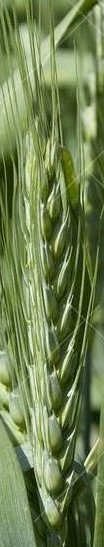Healthy Wheat: (15, 122, 93, 507)
